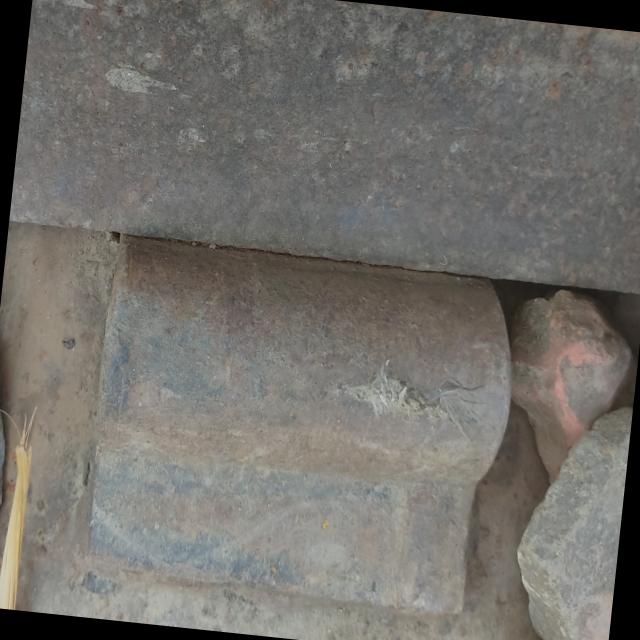track_bolt_missing: (82, 221, 528, 510)
